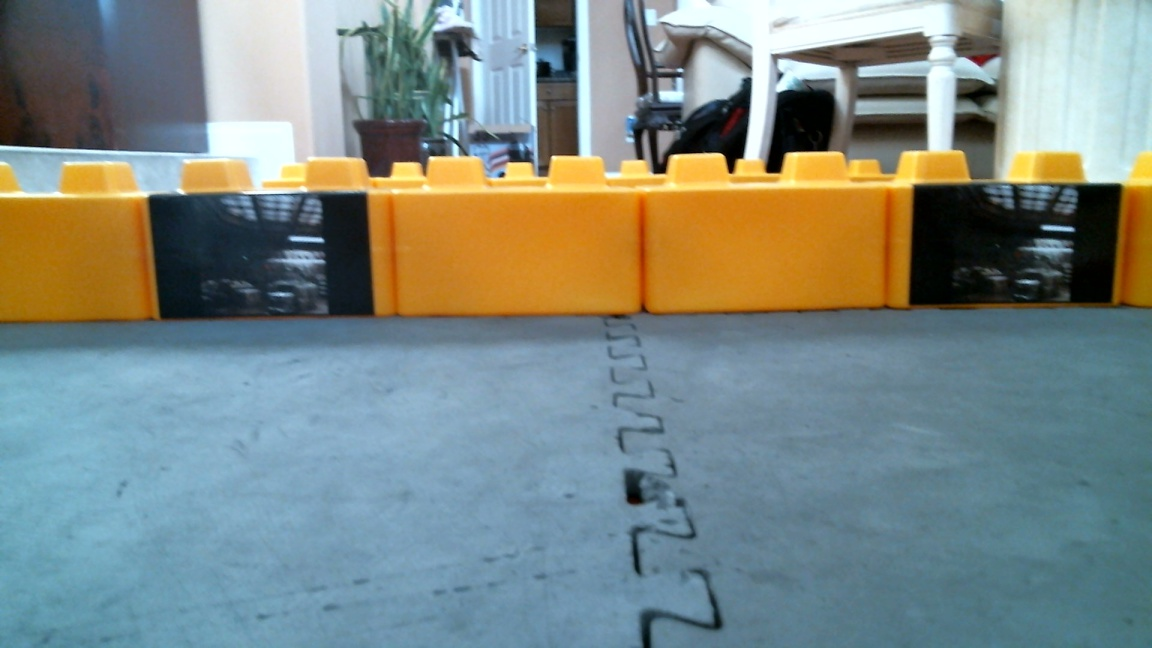skystone: (144, 156, 395, 320), (892, 150, 1130, 309)
stone: (390, 155, 646, 318), (646, 152, 889, 310), (1, 161, 151, 322)
